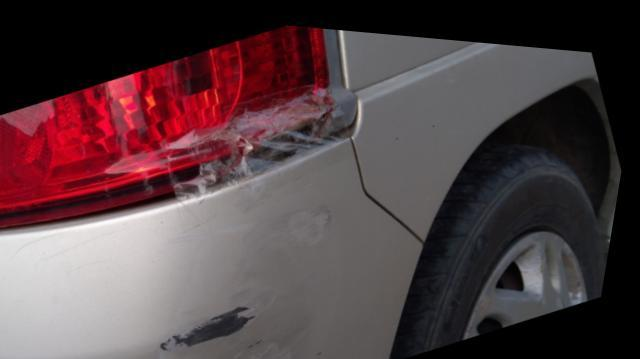scratch: (168, 156, 334, 359)
